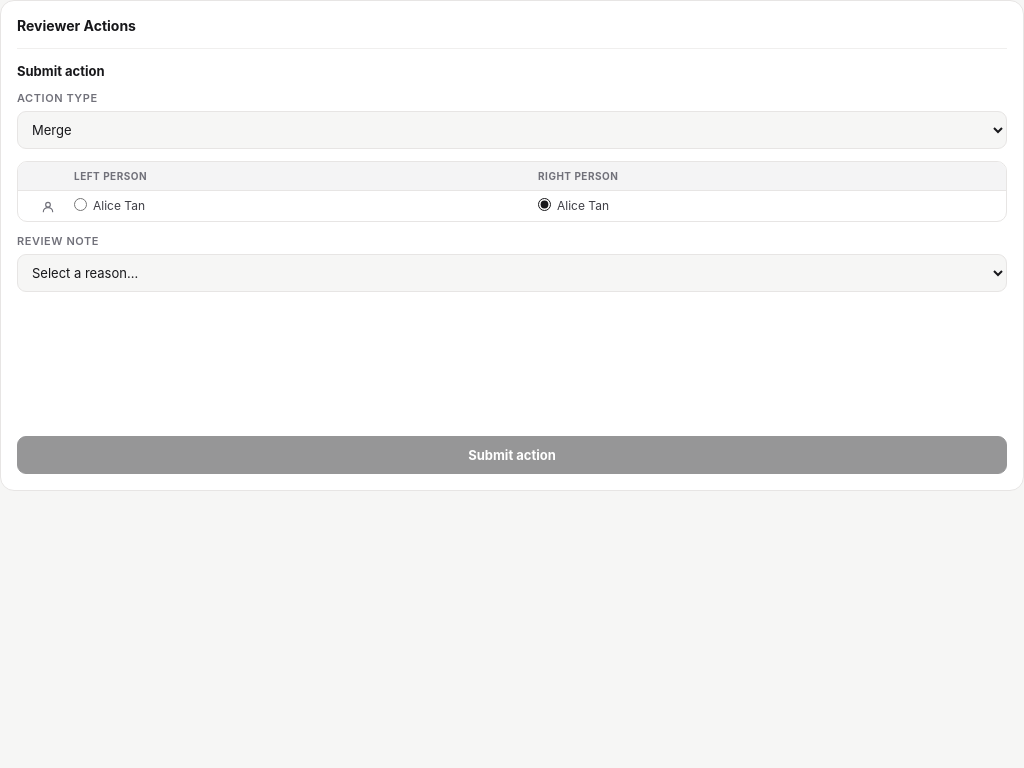
ReviewActionsPanel merge choices › deduplicates corroborating records and submits the winning source record
Click the 1st radio button labelled "Alice Tan" at (80, 204), box x1=74 y1=198 x2=87 y2=211
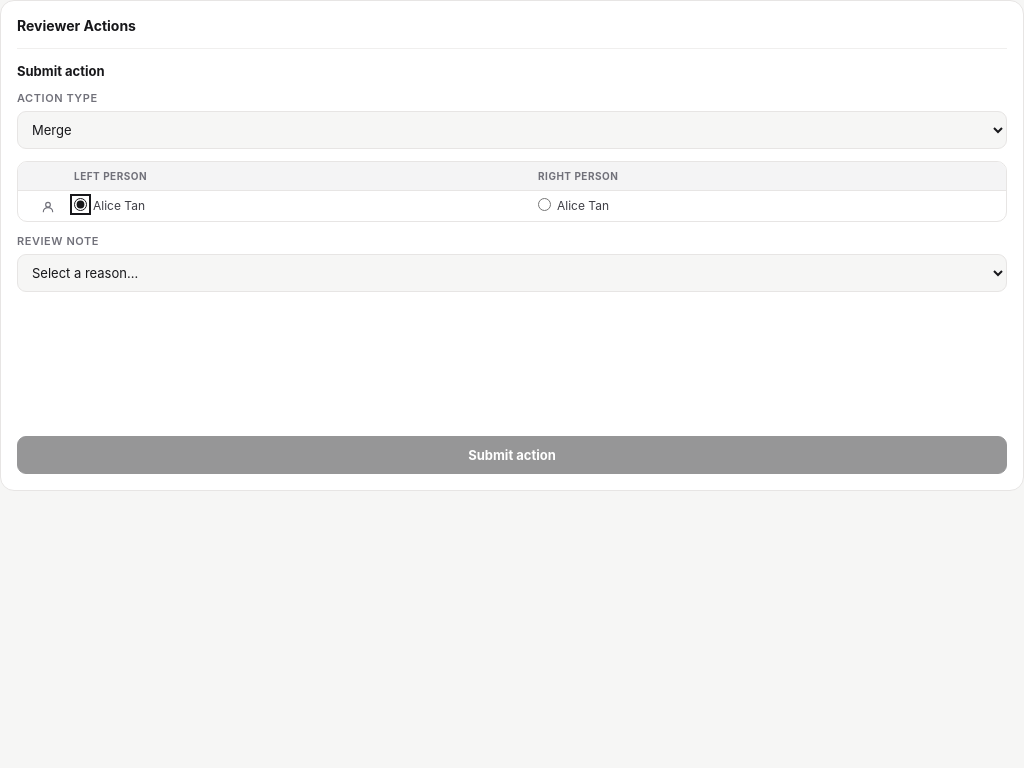
Select "Confirmed same person — matching government ID and name." in the dropdown labelled "Review note" at (512, 273), box x1=17 y1=254 x2=1007 y2=292
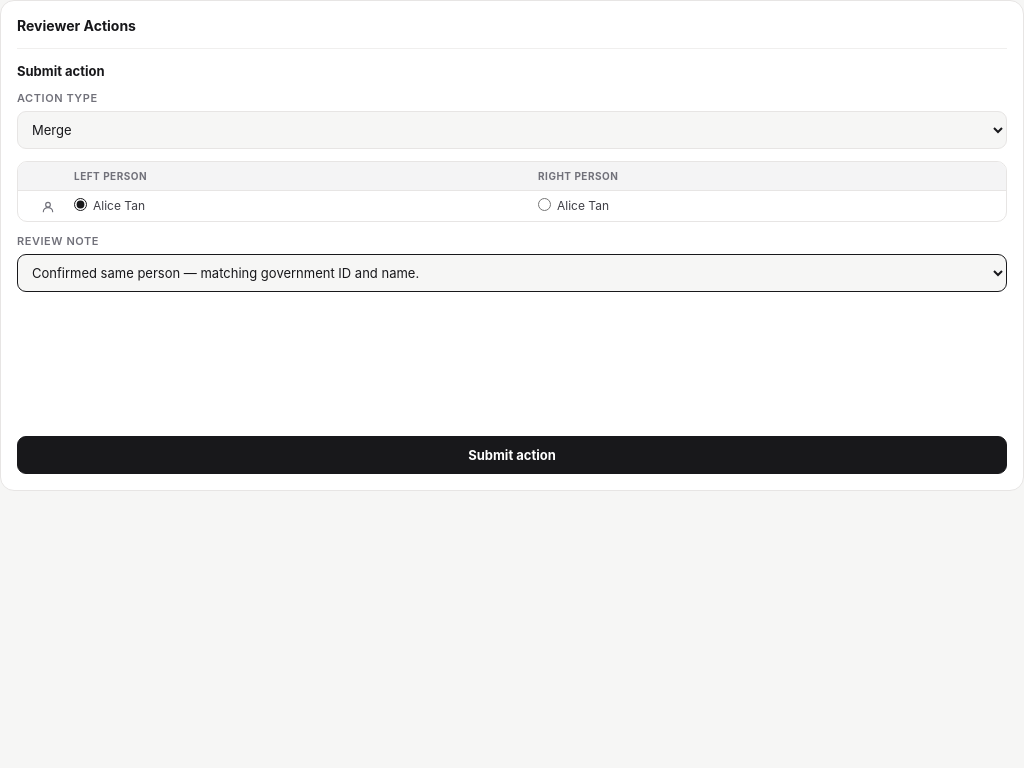
Click the button "Submit action" at (512, 455), box x1=17 y1=436 x2=1007 y2=474
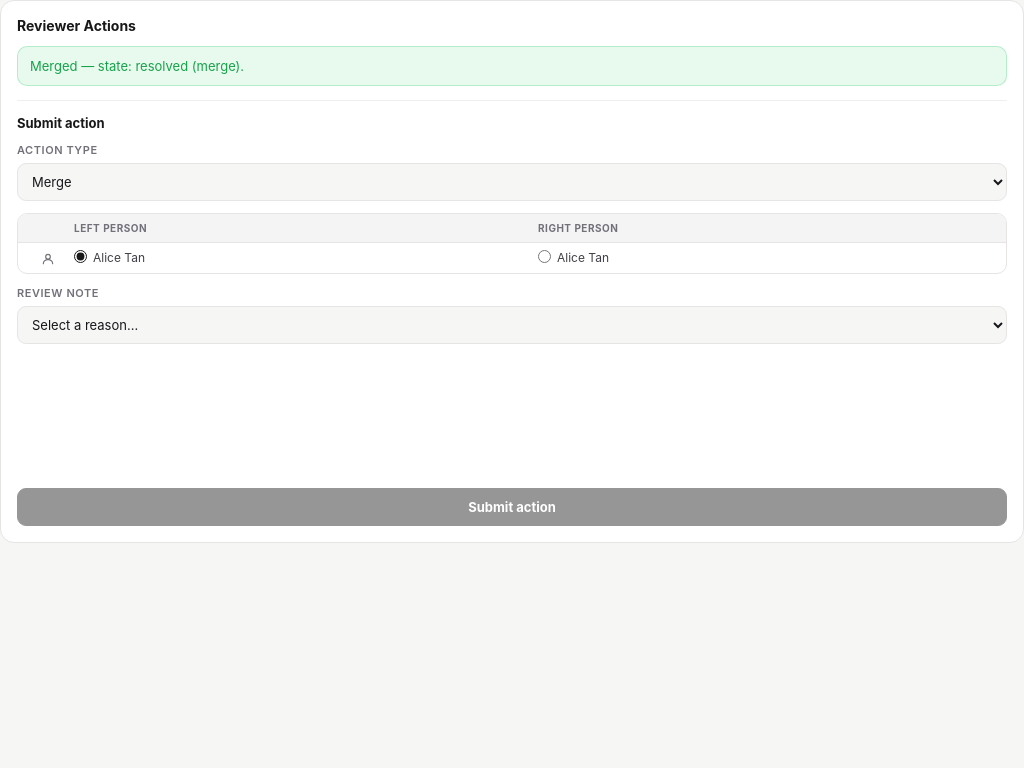
Now the text "Merged — state: resolved (merge)." is shown, box x1=17 y1=46 x2=1007 y2=86
